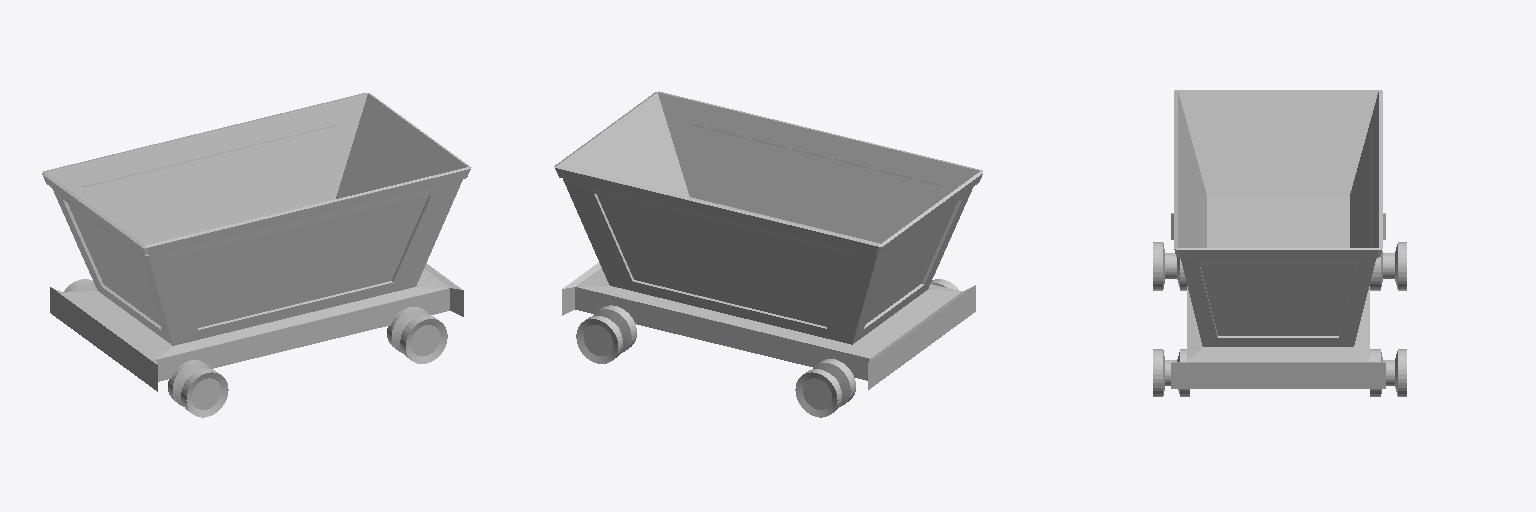
The model's file is Minecart.obj.
The picture shows the model from 3 angles: view 1: azimuth 30°, elevation 25°; view 2: azimuth 150°, elevation 25°; view 3: azimuth 270°, elevation 25°; orthographic projection.
Parts seen in each view (by area): view 1: Cart_Body_Cube, Wheels_Cylinder.004; view 2: Cart_Body_Cube, Wheels_Cylinder.004; view 3: Cart_Body_Cube, Wheels_Cylinder.004.
Part boxes in pixels (left/top/right/bottom): Cart_Body_Cube: left=42, top=93, right=471, bottom=391; Wheels_Cylinder.004: left=63, top=279, right=447, bottom=417; Cart_Body_Cube: left=554, top=91, right=982, bottom=389; Wheels_Cylinder.004: left=576, top=279, right=958, bottom=417; Cart_Body_Cube: left=1171, top=90, right=1385, bottom=388; Wheels_Cylinder.004: left=1153, top=242, right=1406, bottom=396.
Bounding box in the file's own units: 2.43 × 1.23 × 1.63.